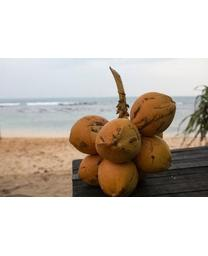coconut: (94, 113, 142, 165), (129, 91, 176, 135), (68, 115, 112, 155), (97, 157, 139, 197), (133, 133, 173, 173), (74, 154, 106, 187)
